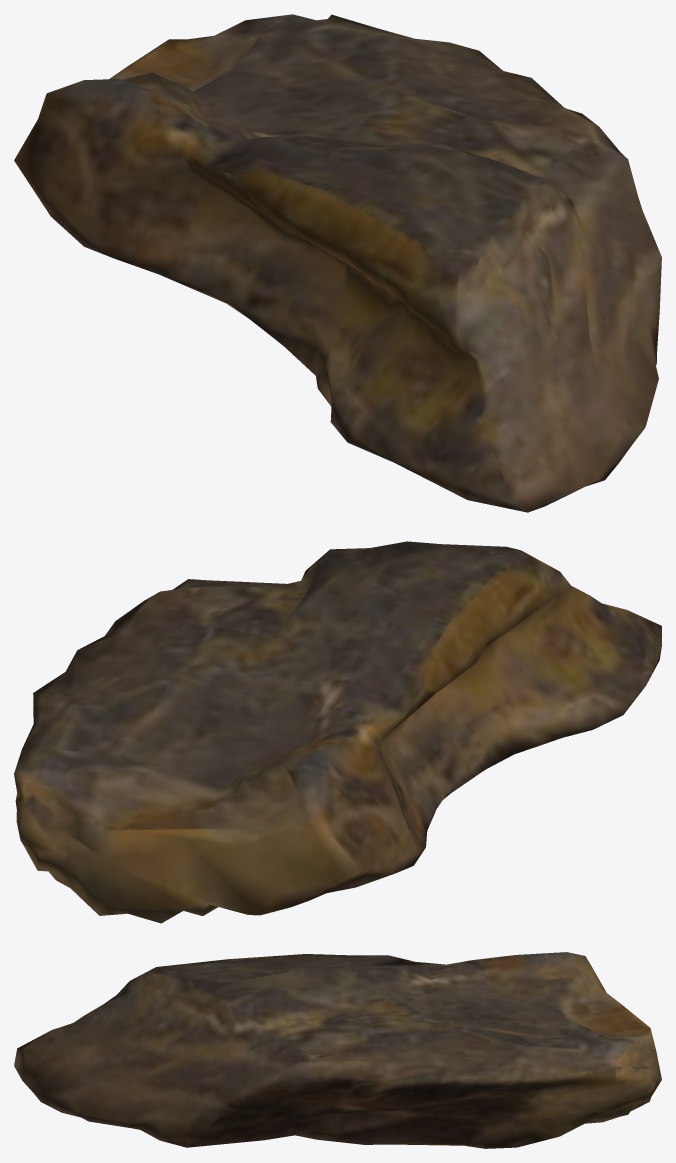
3 views of the same model, one above another, from view 1: azimuth 30°, elevation 25°; view 2: azimuth 150°, elevation 25°; view 3: azimuth 270°, elevation 25° (orthographic). The views are drawn at different scales.
Visible parts, largest first — view 1: rock_09_lod1; view 2: rock_09_lod1; view 3: rock_09_lod1.
Part boxes in pixels (x1,y1,x2,y2): rock_09_lod1: (14, 14, 661, 512); rock_09_lod1: (14, 541, 661, 923); rock_09_lod1: (14, 952, 661, 1148).
Bounding box in the file's own units: 0.0733 × 0.0322 × 0.1442.
1 material, 1 textured.
